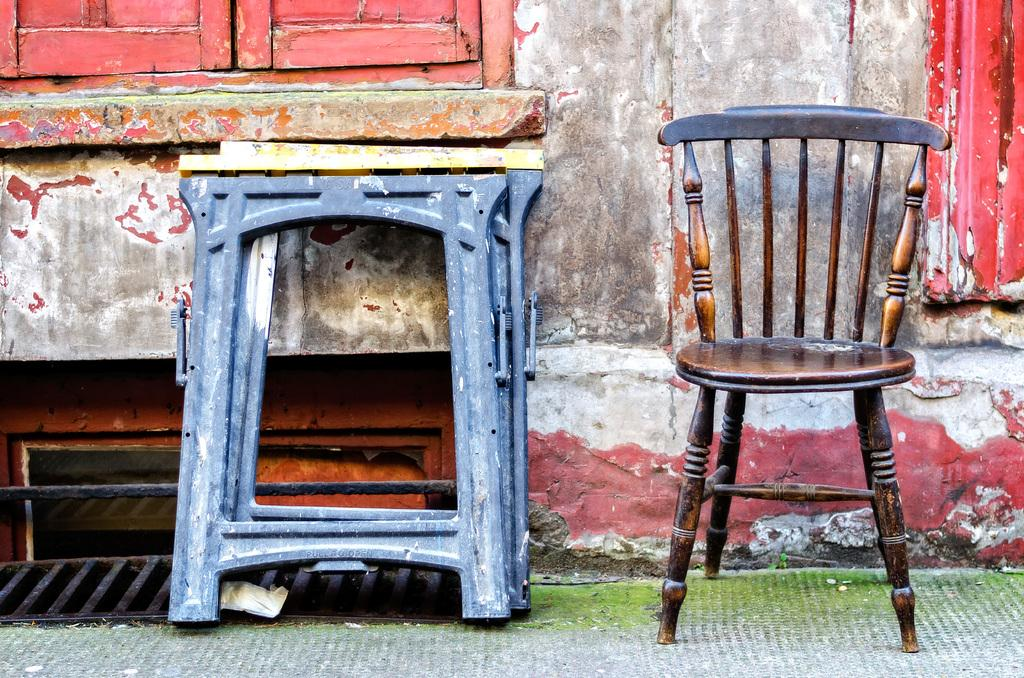Chair: (642, 83, 938, 652)
